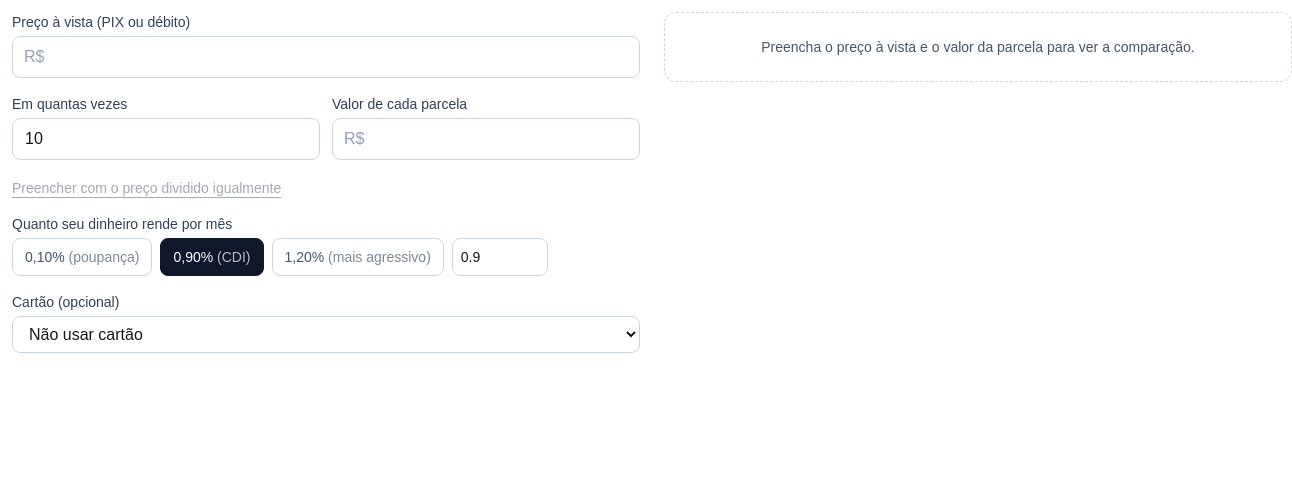
it: SimulatorForm — o veredito › parcelado mais caro sem rendimento favorece pagar a vista
Step 1. Click the button "0,10% (poupança)" → [82, 257], box top-left (12, 238), bottom-right (152, 276)
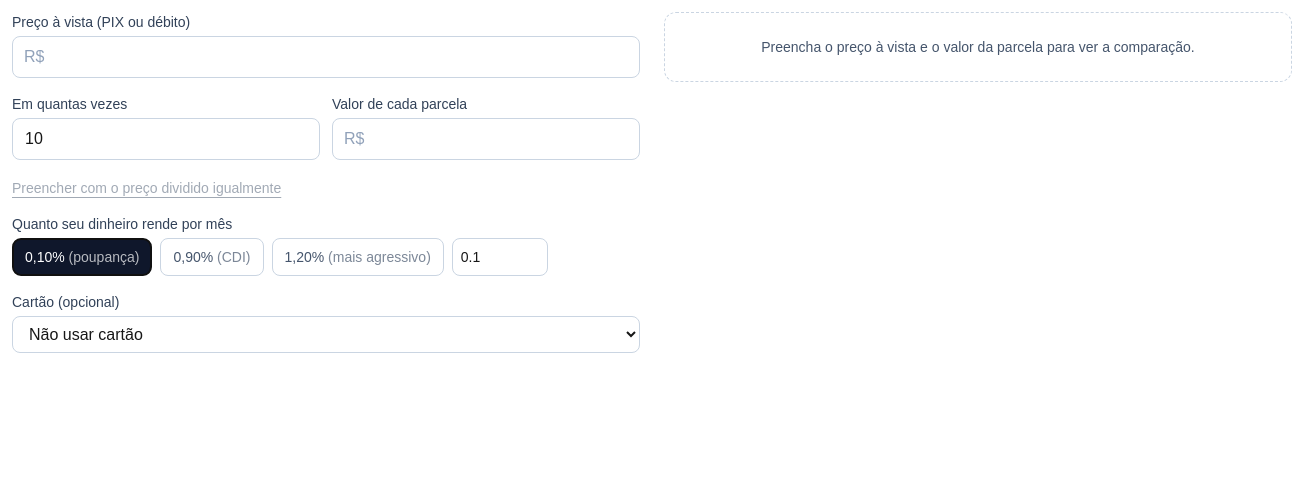
Step 2. Type "100000" into the field labelled "Preço à vista (PIX ou débito)" → [326, 57], box top-left (12, 36), bottom-right (640, 78)
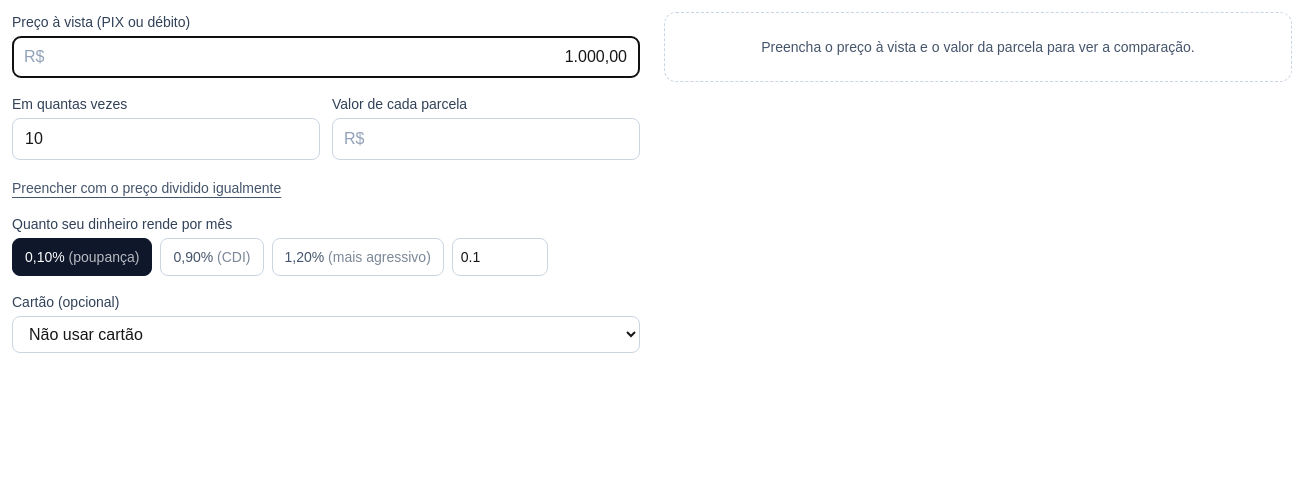
Step 3. Type "12000" into the field labelled "Valor de cada parcela" → [486, 139], box top-left (332, 118), bottom-right (640, 160)
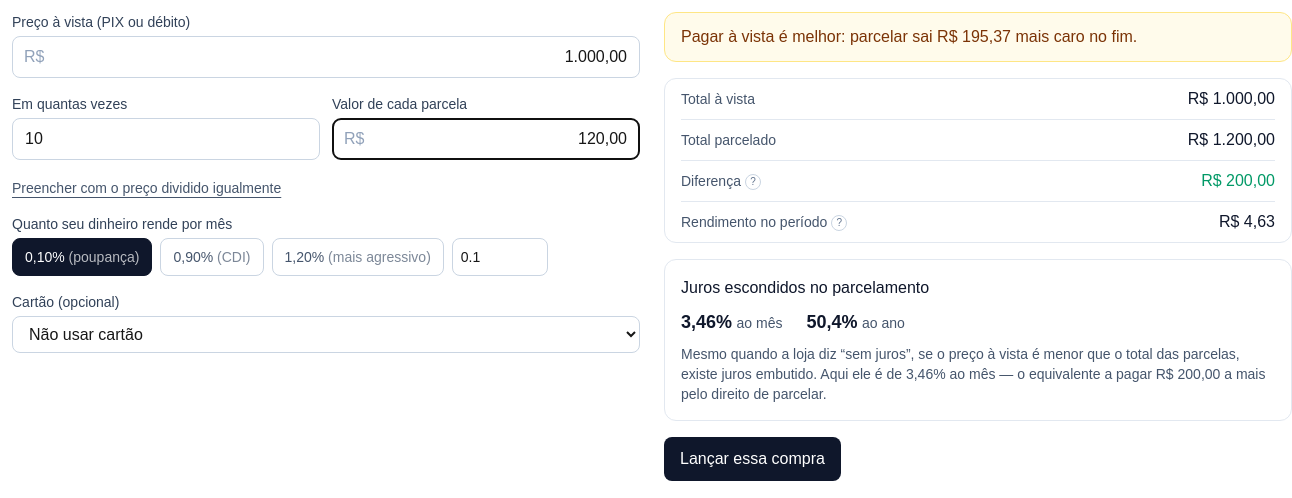
Check: the text "Pagar à vista é melhor: parcelar sai R$ 195,37 mais caro no fim." is shown, box top-left (664, 12), bottom-right (1291, 62)
